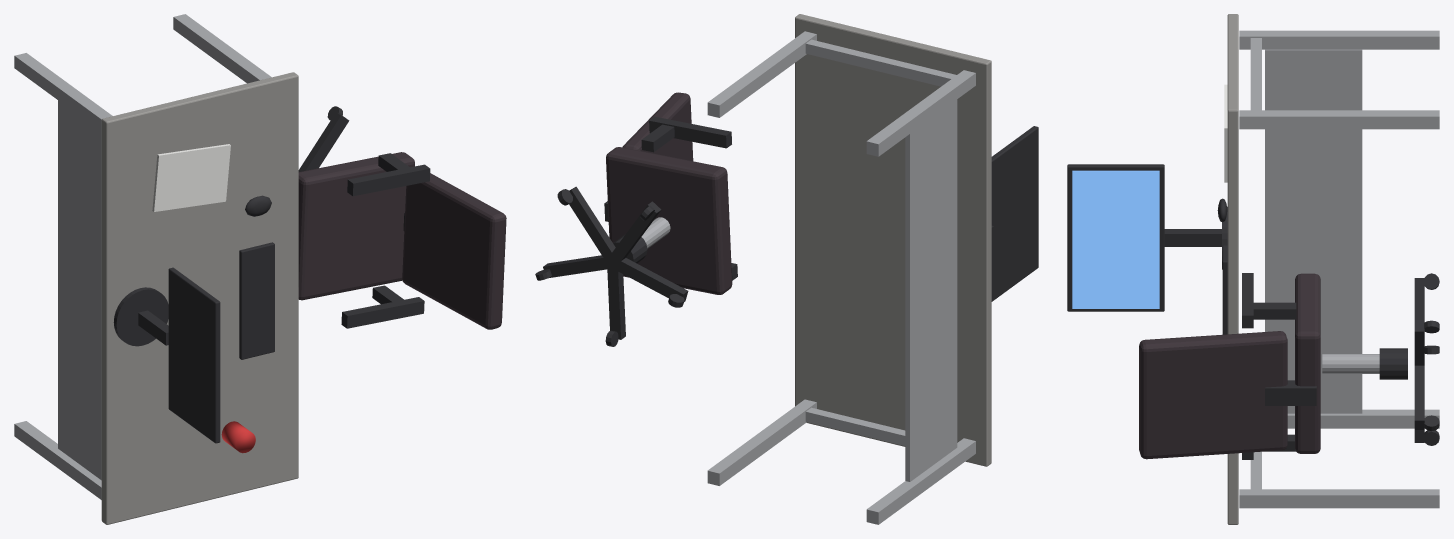
File: podC_workstation3.glb
The picture shows the model from 3 angles, left to right: view 1: azimuth 30°, elevation 25°; view 2: azimuth 150°, elevation 25°; view 3: azimuth 270°, elevation 25°; orthographic projection. The views are drawn at different scales.
Parts seen in each view (by area): view 1: podC_desk3_top, podC_desk3_modesty, podC_chair3_seat, podC_chair3_back, podC_mon3_panel, podC_clut3_papers, podC_clut3_keyboard, podC_desk3_leg.003, podC_desk3_leg.002, podC_mon3_base, podC_desk3_leg.001, podC_chair3_arm.001 (+4 smaller); view 2: podC_desk3_top, podC_desk3_modesty, podC_chair3_seat, podC_mon3_panel, podC_desk3_leg.003, podC_desk3_leg, podC_desk3_leg.002, podC_desk3_leg.001, podC_desk3_rail.001, podC_chair3_back, podC_desk3_rail, podC_chair3_arm (+6 smaller); view 3: podC_desk3_modesty, podC_chair3_back, podC_mon3_screen, podC_desk3_top, podC_chair3_seat, podC_desk3_leg, podC_desk3_leg.002, podC_desk3_leg.003, podC_mon3_panel, podC_desk3_leg.001, podC_chair3_column, podC_chair3_backstem (+10 smaller).
Boxes of the visible parts, bbox=[...] form: podC_desk3_top: bbox=[101, 72, 298, 524]; podC_desk3_modesty: bbox=[58, 100, 101, 480]; podC_chair3_seat: bbox=[298, 152, 414, 300]; podC_chair3_back: bbox=[402, 173, 506, 329]; podC_mon3_panel: bbox=[168, 267, 220, 443]; podC_clut3_papers: bbox=[152, 144, 230, 211]; podC_clut3_keyboard: bbox=[239, 242, 274, 359]; podC_desk3_leg.003: bbox=[14, 53, 112, 131]; podC_desk3_leg.002: bbox=[173, 14, 271, 83]; podC_mon3_base: bbox=[113, 287, 168, 346]; podC_desk3_leg.001: bbox=[14, 421, 101, 499]; podC_chair3_arm.001: bbox=[341, 297, 424, 328]; podC_desk3_top: bbox=[795, 14, 991, 466]; podC_desk3_modesty: bbox=[905, 99, 957, 481]; podC_chair3_seat: bbox=[606, 147, 732, 294]; podC_mon3_panel: bbox=[991, 126, 1038, 301]; podC_desk3_leg.003: bbox=[866, 70, 975, 156]; podC_desk3_leg: bbox=[707, 399, 816, 485]; podC_desk3_leg.002: bbox=[707, 31, 816, 117]; podC_desk3_leg.001: bbox=[866, 438, 975, 524]; podC_desk3_rail.001: bbox=[805, 39, 956, 86]; podC_chair3_back: bbox=[622, 92, 693, 161]; podC_desk3_rail: bbox=[805, 407, 905, 445]; podC_chair3_arm: bbox=[649, 116, 731, 148]; podC_desk3_modesty: bbox=[1265, 49, 1362, 413]; podC_chair3_back: bbox=[1139, 331, 1287, 459]; podC_mon3_screen: bbox=[1072, 170, 1159, 308]; podC_desk3_top: bbox=[1227, 14, 1238, 524]; podC_chair3_seat: bbox=[1295, 273, 1320, 453]; podC_desk3_leg: bbox=[1239, 489, 1439, 508]; podC_desk3_leg.002: bbox=[1239, 110, 1439, 129]; podC_desk3_leg.003: bbox=[1239, 30, 1439, 49]; podC_mon3_panel: bbox=[1067, 164, 1164, 311]; podC_desk3_leg.001: bbox=[1287, 409, 1439, 428]; podC_chair3_column: bbox=[1322, 354, 1379, 373]; podC_chair3_backstem: bbox=[1265, 380, 1316, 405].
Bounding box in the file's own units: 1.49 × 1.6 × 1.3.
